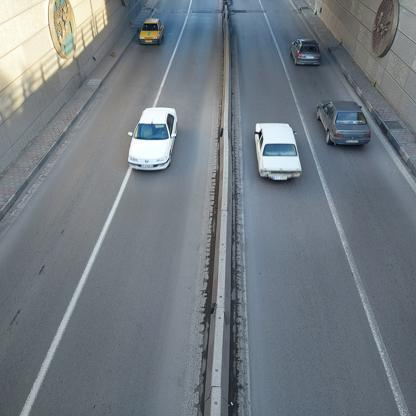Car: (248, 124, 302, 187), (136, 98, 177, 176), (307, 98, 370, 146), (290, 33, 324, 66), (142, 19, 166, 48)
